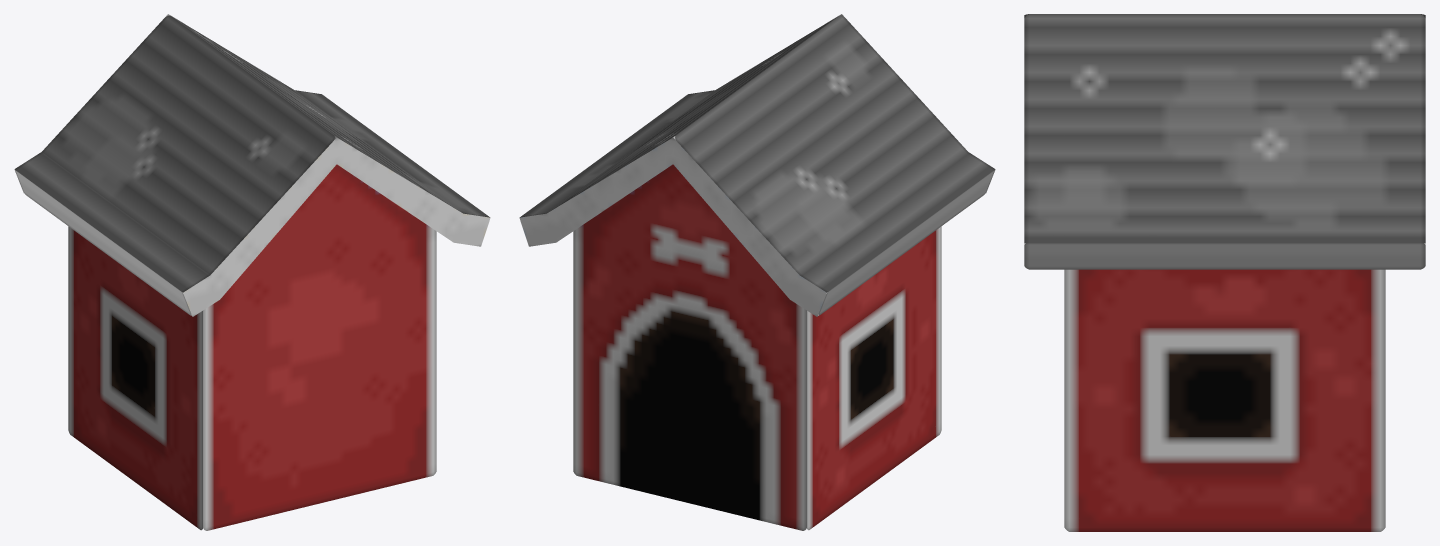
Rendered from Doghouse.fbx.
The picture shows the model from 3 angles, left to right: view 1: azimuth 30°, elevation 25°; view 2: azimuth 150°, elevation 25°; view 3: azimuth 270°, elevation 25°; orthographic projection. The views are drawn at different scales.
Parts seen in each view (by area): view 1: base; view 2: base; view 3: base.
Part boxes in pixels (x1=…): base: x1=14, y1=14, x2=490, y2=530; base: x1=519, y1=14, x2=995, y2=530; base: x1=1024, y1=14, x2=1425, y2=531.
Size of the model in its own units: 132 by 155 by 125.
1 material, 1 textured.
